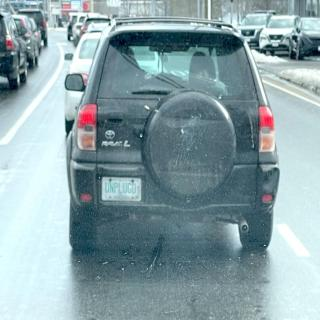license: (102, 178, 143, 203)
